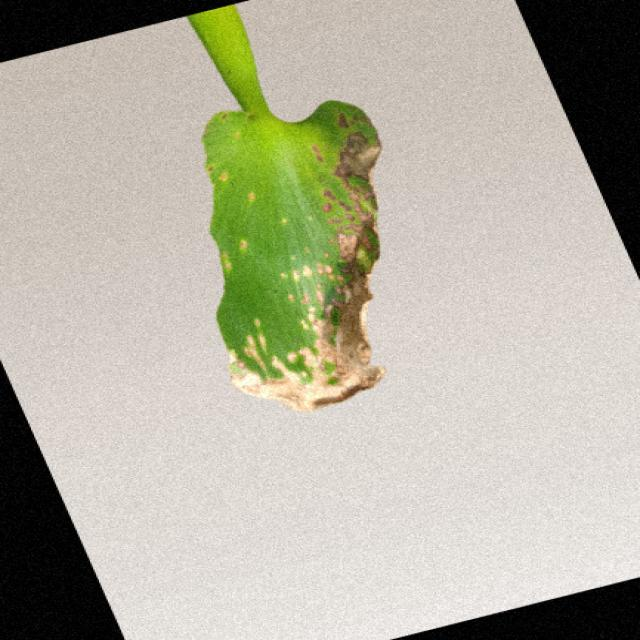daun berpenyakit bercak: (188, 6, 385, 411)
